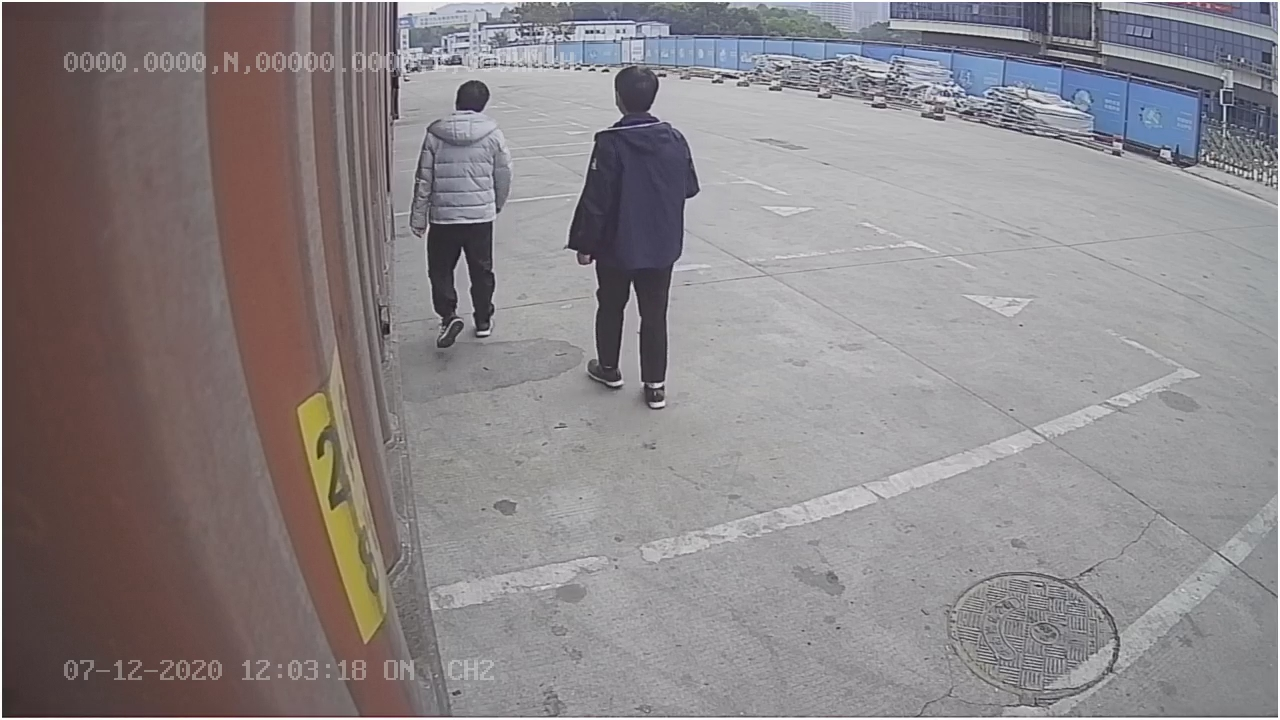person: (569, 61, 701, 407), (411, 75, 519, 349)
